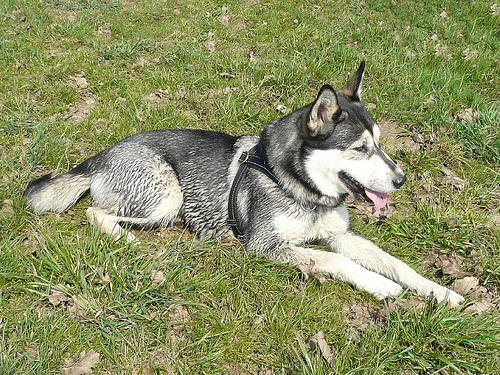dog: (16, 56, 467, 307)
